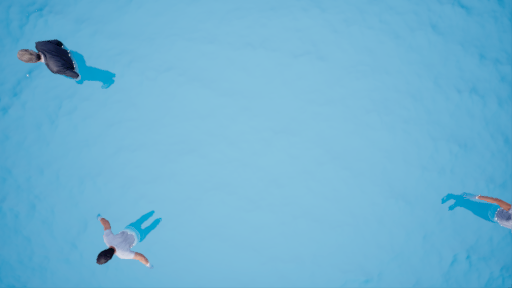person: (16, 34, 127, 102), (85, 202, 161, 269), (416, 183, 512, 228)
